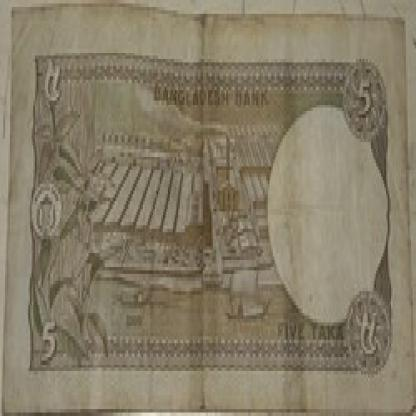Five Taka: (43, 41, 65, 118), (358, 308, 382, 368), (35, 312, 60, 367), (356, 69, 374, 132)
